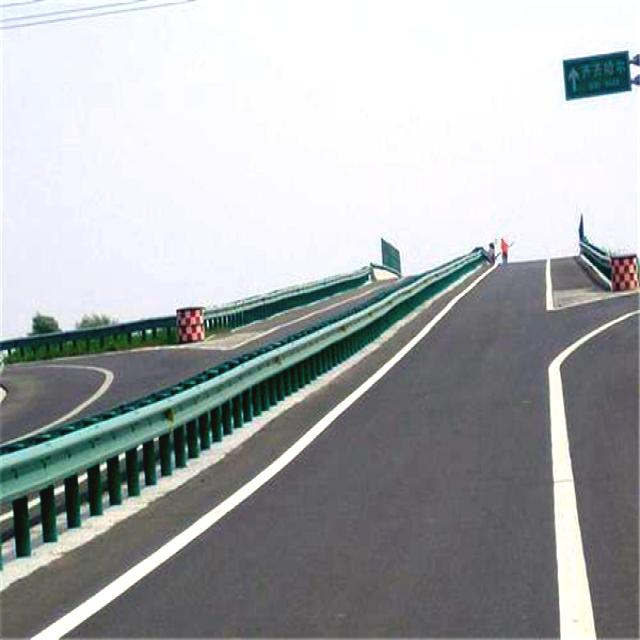Guard rail: (1, 258, 470, 502), (204, 268, 371, 331), (0, 315, 176, 361), (580, 215, 611, 289)
